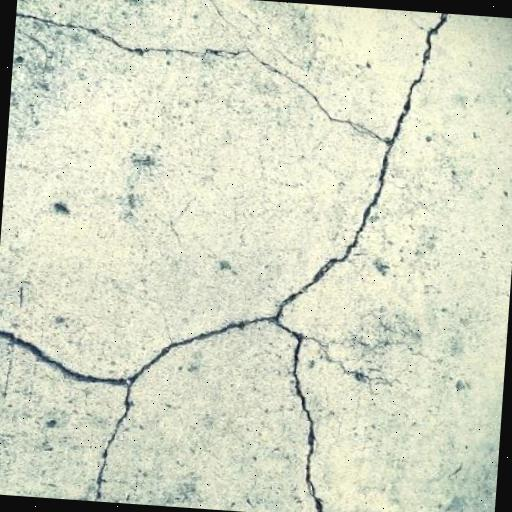spalling: (0, 4, 455, 512)
